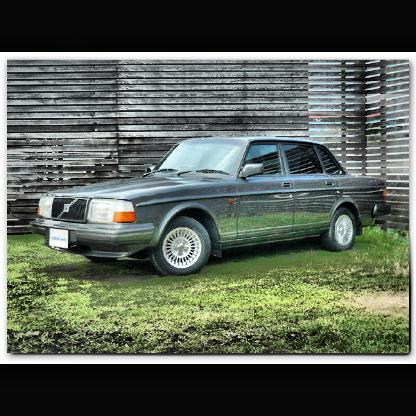Volvo 240 Sedan 1993: (25, 135, 398, 283)
